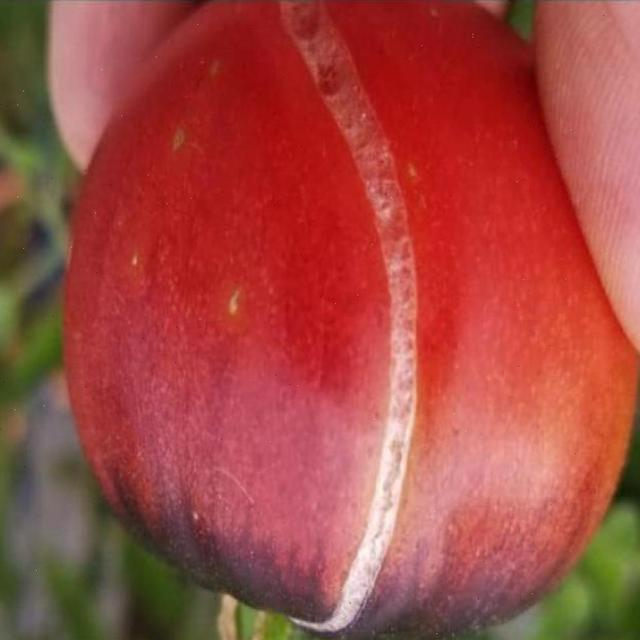Sunscald Fruit: (157, 2, 285, 426)
